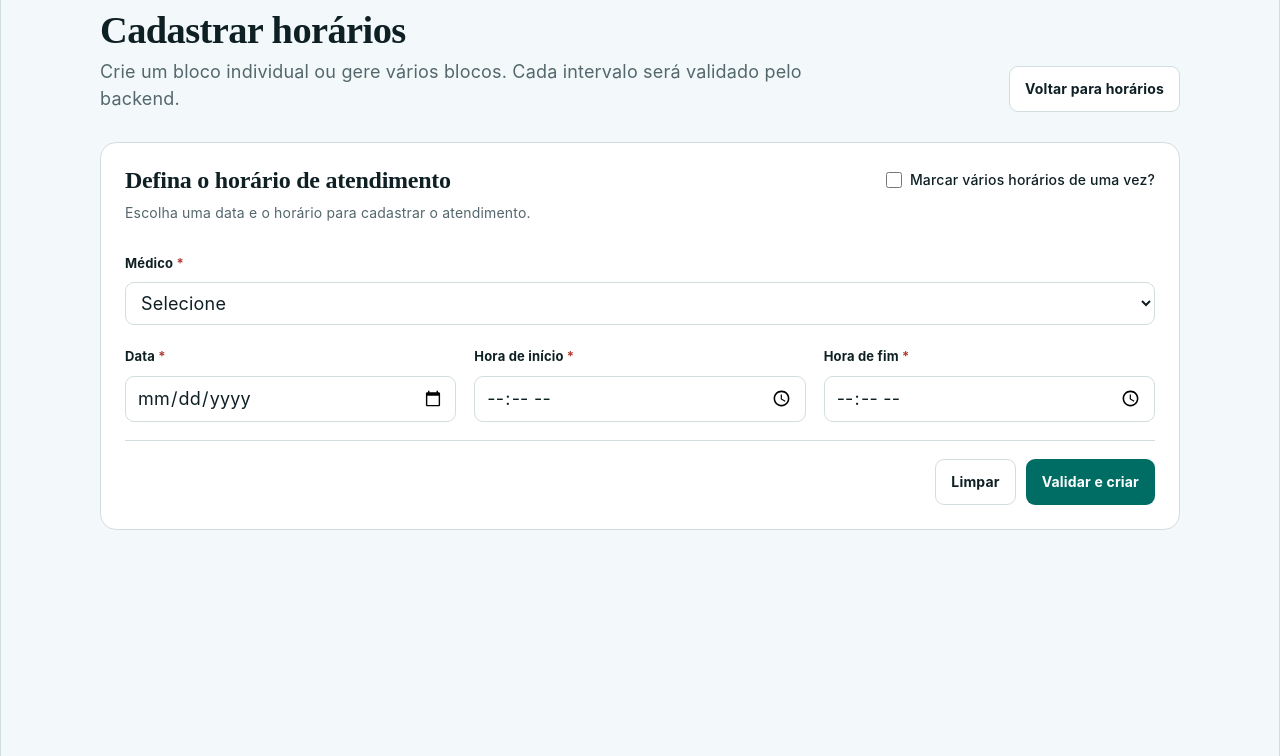
Test: HorarioFormPage › allows adding and removing multiple periods in batch mode
The image size is (1280, 756).
Expected: the dropdown labelled "Médico" is shown, [125,282,1155,325]
Click the checkbox labelled "Marcar vários horários de uma vez?". click: x=894, y=180
box: [886,172,902,188]
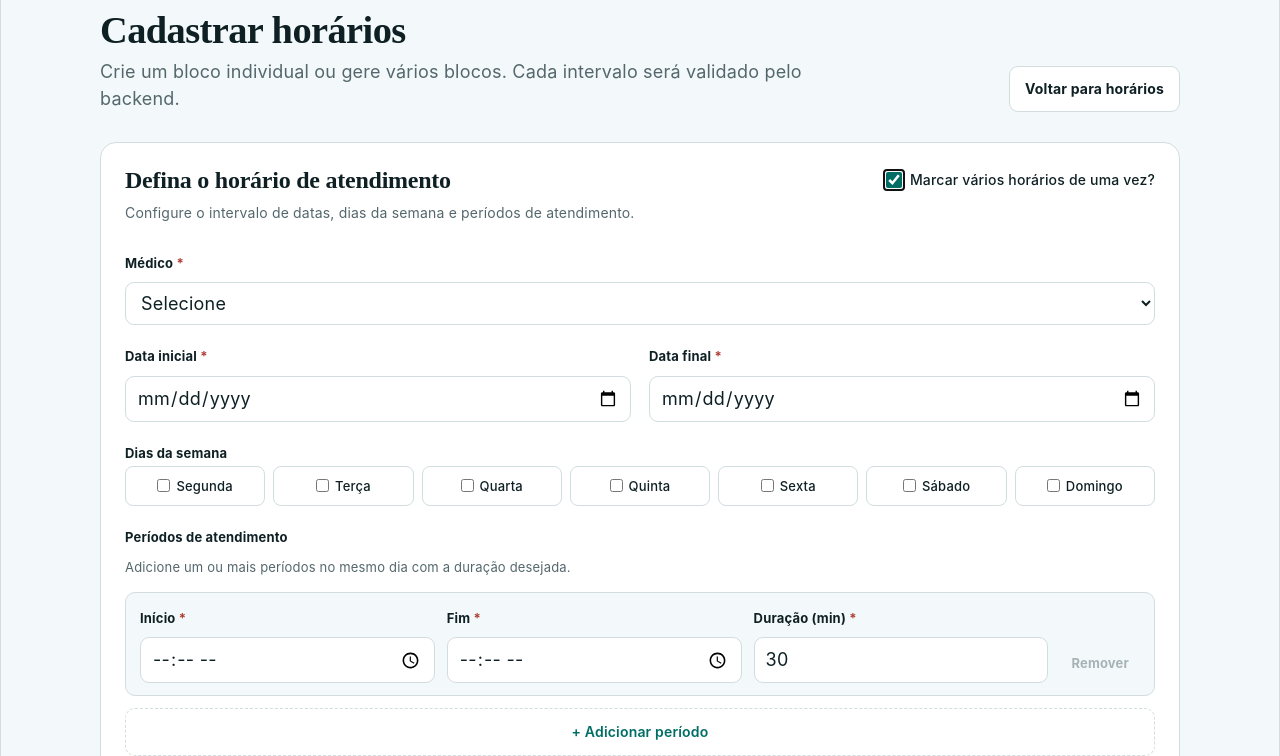
Expected: the button with aria-label "Remover período 1" is disabled, [1060,643,1140,683]
// Add second period
Click the button "+ Adicionar período". click: x=640, y=732
box: [125,708,1155,755]
(page scrolled)
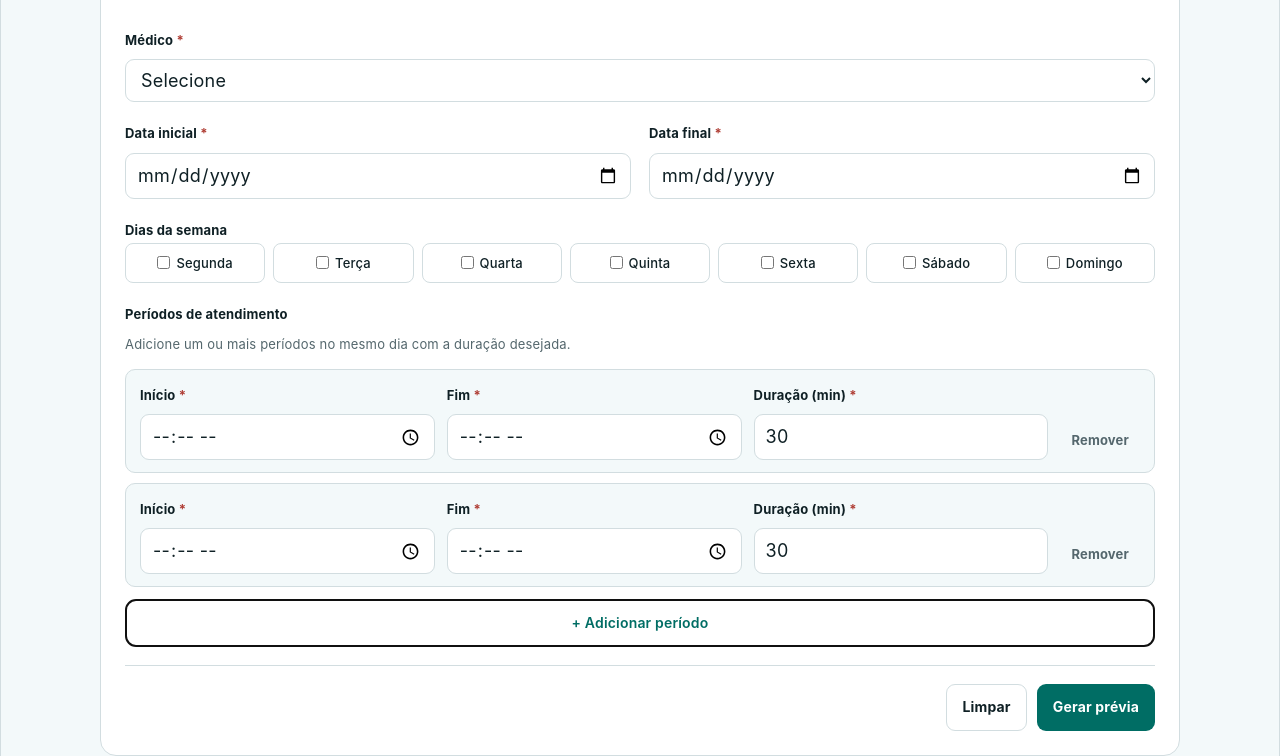
Expected: the number of buttons named "Remover período" is 2
Expected: the button with aria-label "Remover período" is enabled, [1060,420,1140,460]
// Remove second period
Click the button with aria-label "Remover período". click: x=1100, y=554
box: [1060,534,1140,574]
(page scrolled)
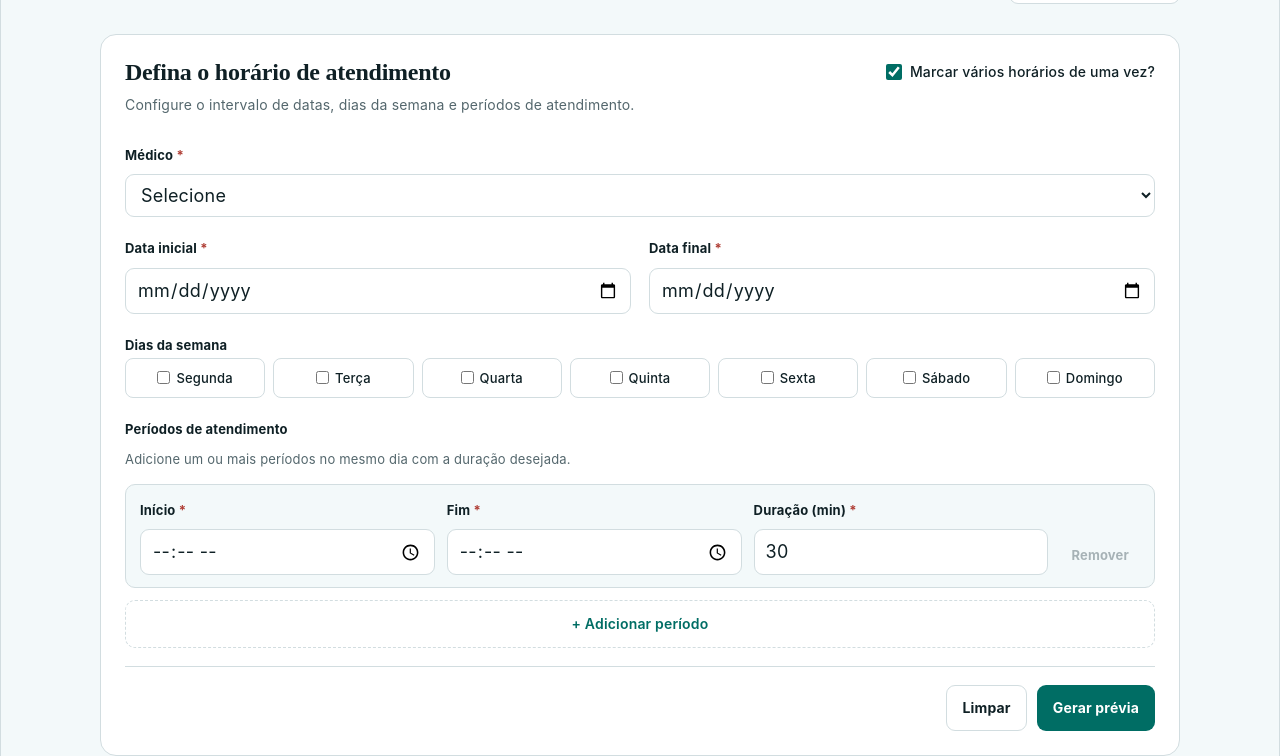
Expected: the number of buttons named "Remover período" is 1, [1060,535,1140,575]
